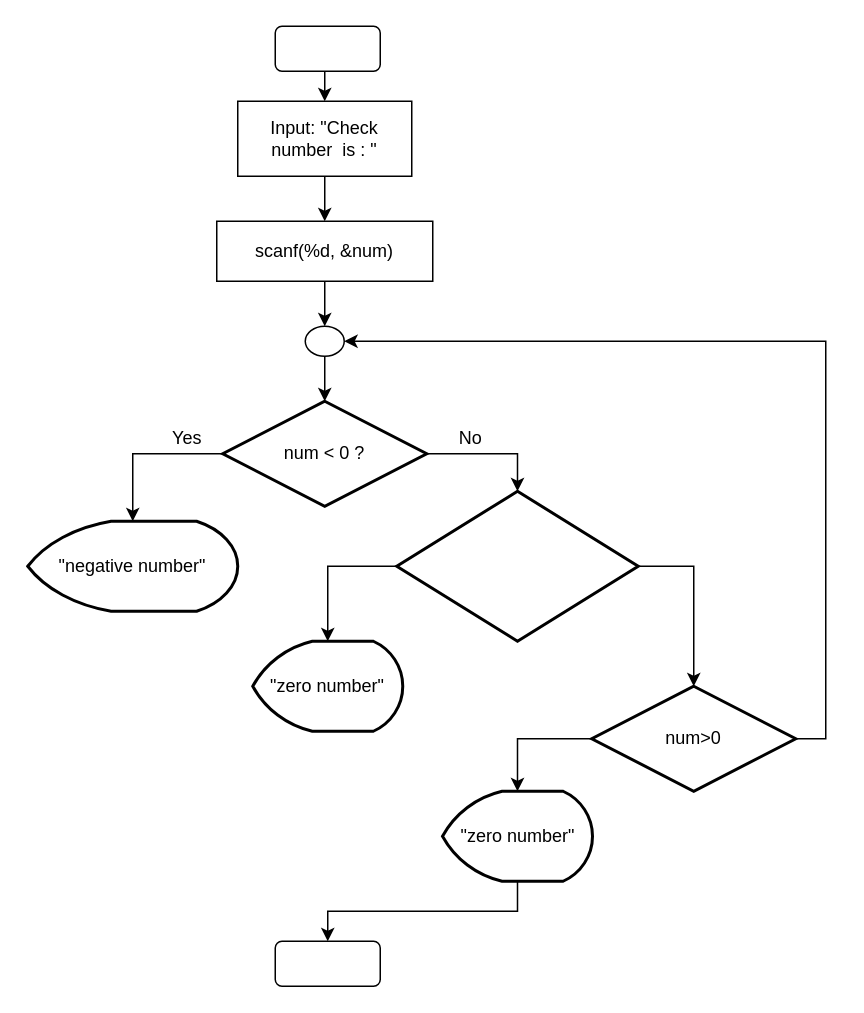
This 864x1013 diagram has some shape labels left out. The centre of each missing label's shape, as x and y in pixels:
else if(num==0): the point at 516,565
End: the point at 327,963
Start: the point at 327,48
